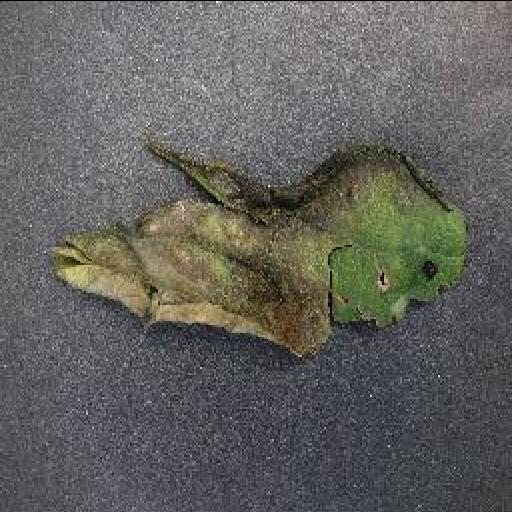disease_tomato: (49, 138, 475, 356)
